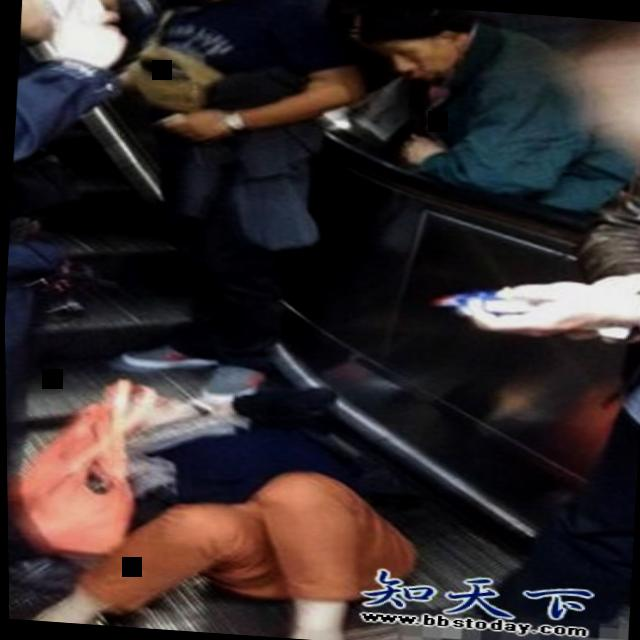Fall-Detected: (4, 317, 433, 640)
